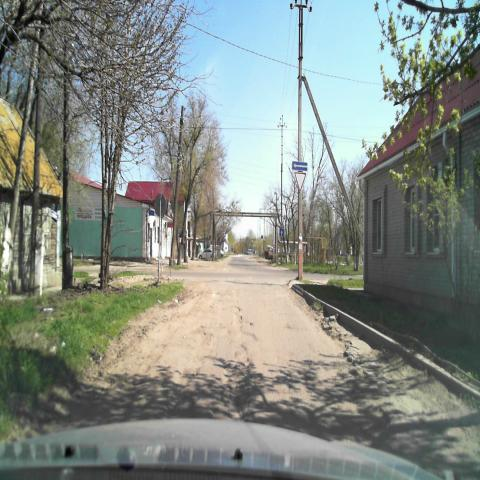5_7_2: (292, 159, 308, 170)
